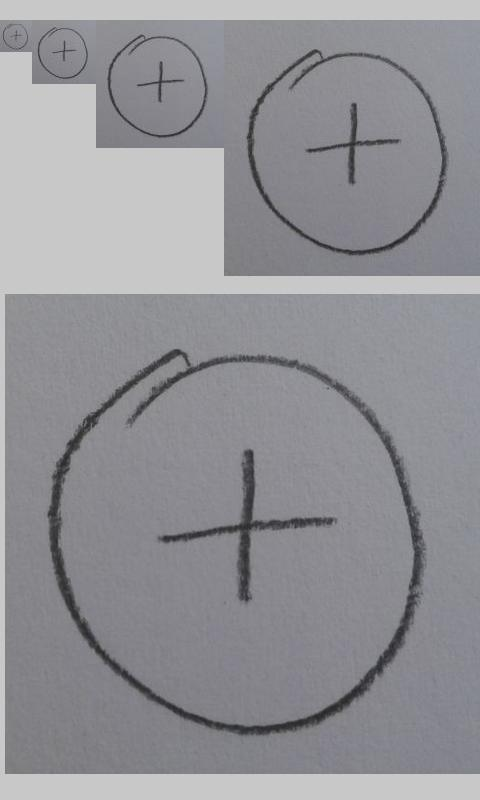button: (45, 350, 426, 737), (248, 49, 449, 257), (107, 34, 209, 138), (37, 26, 88, 79), (2, 23, 28, 50)
